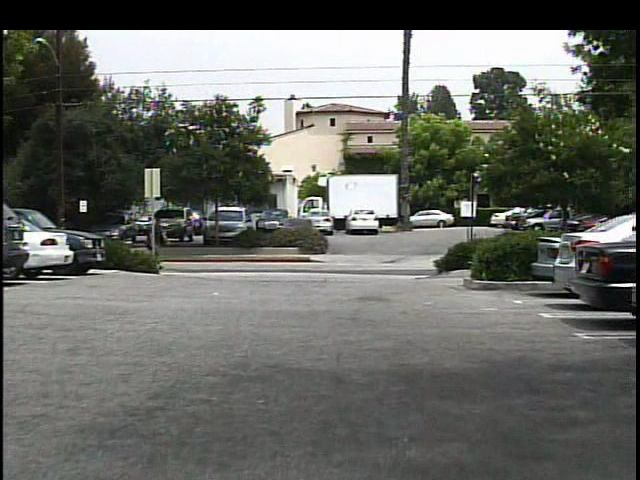person: (147, 215, 173, 275)
